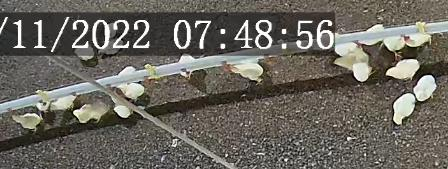chick: (391, 92, 416, 125), (385, 58, 419, 80), (413, 73, 439, 101), (74, 102, 109, 122), (231, 63, 265, 83), (357, 24, 385, 46), (337, 51, 369, 70), (329, 31, 355, 54), (11, 113, 42, 131), (110, 65, 135, 87), (97, 39, 124, 56), (117, 84, 144, 101), (385, 35, 405, 57), (354, 62, 376, 82), (405, 33, 434, 48), (49, 95, 76, 111), (112, 98, 133, 118), (178, 53, 195, 77), (74, 45, 94, 61), (102, 23, 119, 37)
